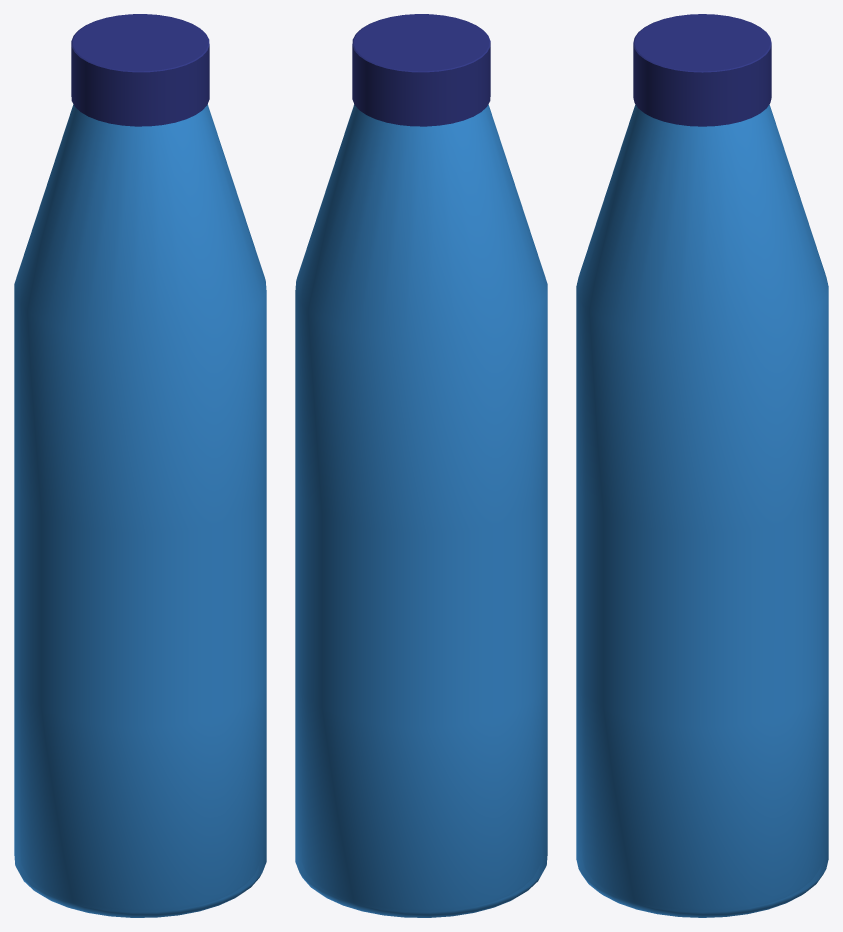
Rendered from Shield.fbx.
The picture shows the model from 3 angles, left to right: view 1: azimuth 30°, elevation 25°; view 2: azimuth 150°, elevation 25°; view 3: azimuth 270°, elevation 25°; orthographic projection.
Visible parts, largest first — view 1: Cylinder, Cylinder.001; view 2: Cylinder, Cylinder.001; view 3: Cylinder, Cylinder.001.
Part boxes in pixels (bbox=[...]): Cylinder: bbox=[14, 104, 266, 917]; Cylinder.001: bbox=[71, 14, 209, 126]; Cylinder: bbox=[295, 104, 547, 917]; Cylinder.001: bbox=[352, 14, 490, 126]; Cylinder: bbox=[576, 104, 828, 917]; Cylinder.001: bbox=[633, 14, 771, 126].
Bounding box in the file's own units: 237 × 853 × 237.
